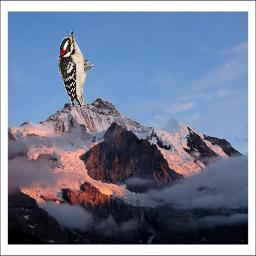Woodpecker: (58, 30, 94, 107)
